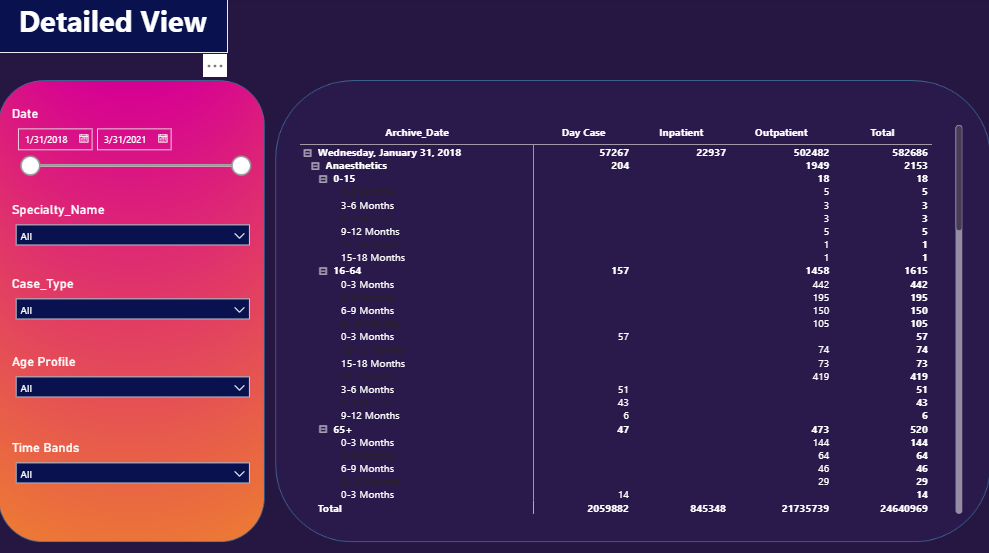

Layout of this report page (visuals, bound fields, positions):
{"tool":"powerbi","page":{"name":"Detailed View","canvas":[1280,720],"ordinal":1},"visuals":[{"type":"textbox","box":[0,0,296.2,72.3],"z":0},{"type":"pivotTable","fields":{"Columns":["Data.Case_Type"],"Rows":["Data.Archive_Date","Data.Speciality _Name","Data.Age_Profile","Data.Time_Bands"],"Values":["Sum(Data.Total)"]},"box":[384.1,160.2,864.6,511.7],"z":1000},{"type":"slicer","title":"Date","fields":{"Values":["Data.Archive_Date"]},"box":[12.8,140.3,321.7,92.1],"z":2000},{"type":"slicer","title":"Case_Type","fields":{"Values":["Data.Case_Type"]},"box":[12.8,360,321.7,100.6],"z":3000},{"type":"slicer","title":"Specialty_Name","fields":{"Values":["Data.Speciality _Name"]},"box":[12.8,265,321.7,95],"z":4000},{"type":"slicer","title":"Age Profile","fields":{"Values":["Data.Age_Profile"]},"box":[12.8,460.6,321.7,100.6],"z":5000},{"type":"slicer","title":"Time Bands","fields":{"Values":["Data.Time_Bands"]},"box":[12.8,571.2,321.7,100.6],"z":6000}]}

Visuals, with their boxes in screenshot pixels (x1, y1, x2, y2), scaled from the page's 1280x720 canvas onto the 989x553 screenshot:
textbox: bbox(0, 0, 229, 56)
pivotTable - Data.Case_Type x Data.Archive_Date: bbox(297, 123, 965, 516)
"Date" slicer: bbox(10, 108, 258, 178)
"Case_Type" slicer: bbox(10, 276, 258, 354)
"Specialty_Name" slicer: bbox(10, 204, 258, 276)
"Age Profile" slicer: bbox(10, 354, 258, 431)
"Time Bands" slicer: bbox(10, 439, 258, 516)
